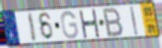6: (38, 11, 54, 41)
B: (102, 6, 125, 39)
G: (60, 10, 79, 40)
H: (78, 9, 101, 39)
I: (129, 6, 140, 37), (27, 12, 38, 43)
